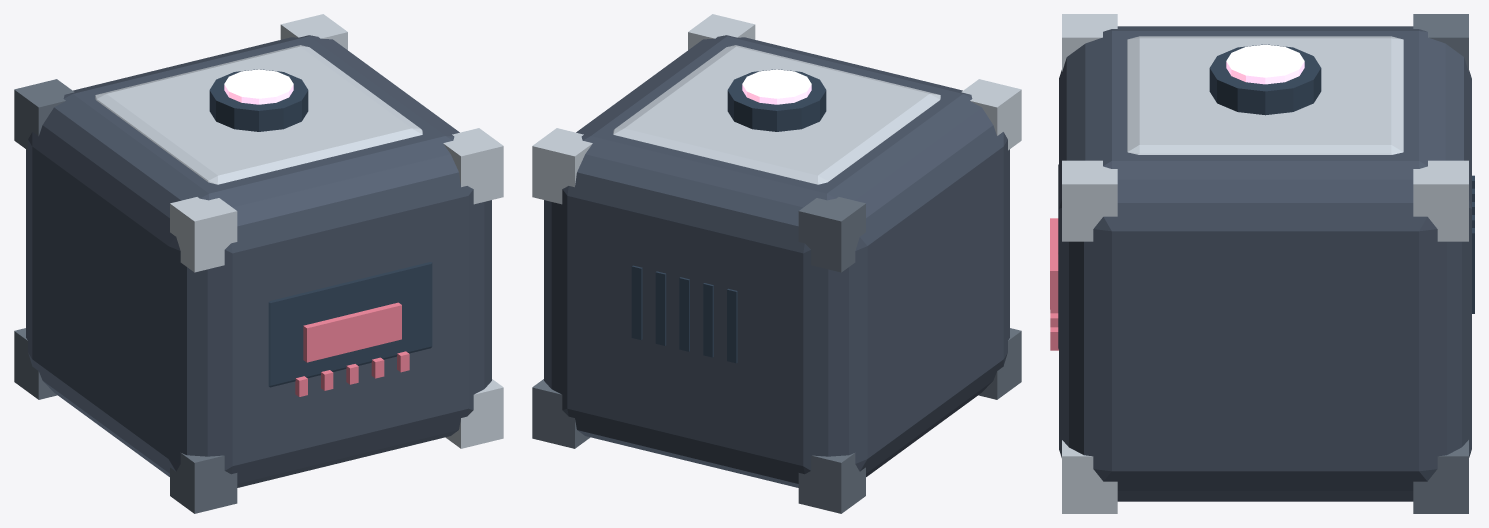
File: box_elite_detail.glb
3 renders of one model, left to right at view 1: azimuth 30°, elevation 25°; view 2: azimuth 150°, elevation 25°; view 3: azimuth 270°, elevation 25°, orthographic. The views are drawn at different scales.
Visible parts, largest first — view 1: sci_fi_chassis, reinforced_lid, front_interface_armor, outer_corner_joint_011, front_hologram_window, top_lock, outer_corner_joint_010, outer_corner_joint_111, outer_corner_joint_110, outer_corner_joint_001, top_lock_energy, outer_corner_joint_000 (+1 smaller); view 2: sci_fi_chassis, reinforced_lid, outer_corner_joint_001, top_lock, outer_corner_joint_000, outer_corner_joint_101, outer_corner_joint_100, outer_corner_joint_011, top_lock_energy, outer_corner_joint_010, outer_corner_joint_111, rear_heat_vents_1 (+4 smaller); view 3: sci_fi_chassis, reinforced_lid, top_lock, outer_corner_joint_101, outer_corner_joint_111, outer_corner_joint_100, outer_corner_joint_110, top_lock_energy, outer_corner_joint_001, outer_corner_joint_011, front_hologram_window.
Part boxes in pixels (x1,y1,x2,y2): sci_fi_chassis: [26, 35, 491, 487]; reinforced_lid: [95, 45, 422, 184]; front_interface_armor: [268, 262, 432, 387]; outer_corner_joint_011: [170, 197, 237, 272]; front_hologram_window: [303, 302, 401, 362]; top_lock: [209, 69, 308, 131]; outer_corner_joint_010: [170, 453, 237, 513]; outer_corner_joint_111: [443, 128, 503, 204]; outer_corner_joint_110: [445, 379, 503, 448]; outer_corner_joint_001: [14, 79, 74, 150]; top_lock_energy: [224, 69, 293, 104]; outer_corner_joint_000: [14, 328, 57, 399]; sci_fi_chassis: [544, 35, 1009, 487]; reinforced_lid: [613, 45, 940, 184]; outer_corner_joint_001: [798, 197, 865, 272]; top_lock: [727, 69, 826, 131]; outer_corner_joint_000: [798, 453, 865, 513]; outer_corner_joint_101: [532, 128, 592, 204]; outer_corner_joint_100: [532, 379, 590, 448]; outer_corner_joint_011: [961, 79, 1021, 150]; top_lock_energy: [742, 69, 811, 104]; outer_corner_joint_010: [978, 328, 1021, 399]; outer_corner_joint_111: [688, 14, 755, 49]; rear_heat_vents_1: [655, 271, 666, 345]; sci_fi_chassis: [1059, 26, 1471, 501]; reinforced_lid: [1127, 36, 1403, 154]; top_lock: [1209, 44, 1321, 115]; outer_corner_joint_101: [1413, 160, 1468, 241]; outer_corner_joint_111: [1062, 160, 1117, 241]; outer_corner_joint_100: [1413, 440, 1468, 513]; outer_corner_joint_110: [1062, 440, 1117, 513]; top_lock_energy: [1226, 44, 1304, 84]; outer_corner_joint_001: [1413, 14, 1468, 71]; outer_corner_joint_011: [1062, 14, 1117, 71]; front_hologram_window: [1050, 218, 1058, 309].
Size of the model in its own units: 1.56 by 1.55 by 1.6.
